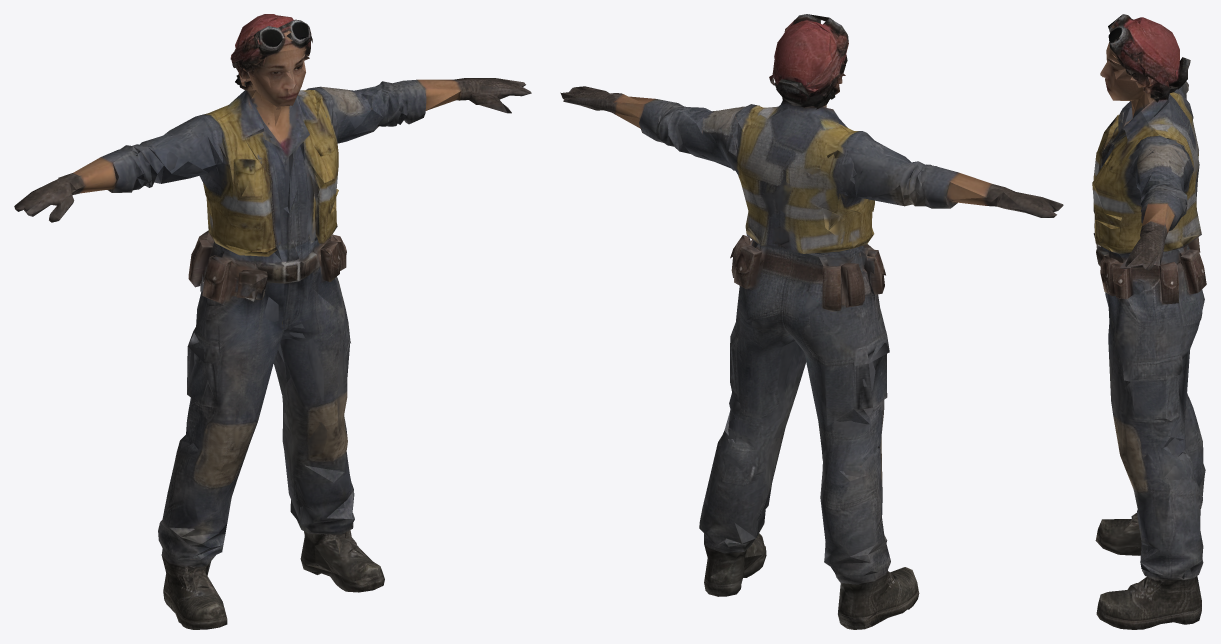
The model's file is mechanic.fbx.
The picture shows the model from 3 angles, left to right: view 1: azimuth 30°, elevation 25°; view 2: azimuth 150°, elevation 25°; view 3: azimuth 270°, elevation 25°; orthographic projection. The views are drawn at different scales.
Parts seen in each view (by area): view 1: Mesh_0; view 2: Mesh_0; view 3: Mesh_0.
Part boxes in pixels (box(x1,y1,x2,y2)): Mesh_0: box(14, 14, 531, 629); Mesh_0: box(560, 14, 1063, 629); Mesh_0: box(1092, 14, 1206, 629).
Bounding box in the file's own units: 173 × 189 × 34.74.
1 material, 1 textured.
